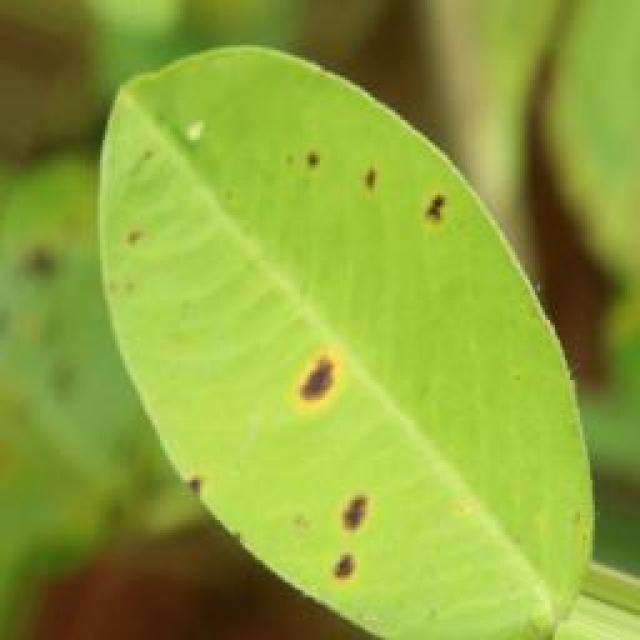Sigatoka: (289, 150, 471, 264), (303, 452, 369, 598), (268, 328, 367, 425), (100, 207, 163, 268), (182, 450, 228, 518)
